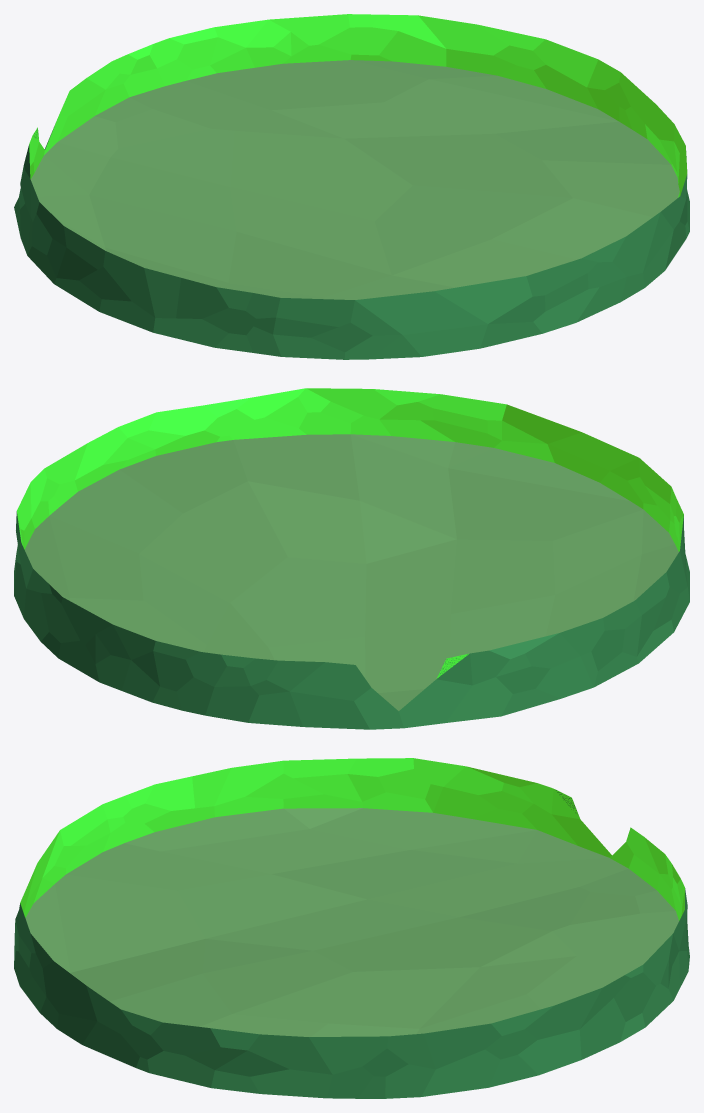
The model's file is plant_lily_pad_medium_C.fbx.
3 views of the same model, one above another, from view 1: azimuth 30°, elevation 25°; view 2: azimuth 150°, elevation 25°; view 3: azimuth 270°, elevation 25° (orthographic).
Visible parts, largest first — view 1: plant_lily_pad_medium_C; view 2: plant_lily_pad_medium_C; view 3: plant_lily_pad_medium_C.
Boxes of the visible parts, left/top/right/bottom form: plant_lily_pad_medium_C: left=14, top=14, right=689, bottom=359; plant_lily_pad_medium_C: left=14, top=388, right=689, bottom=729; plant_lily_pad_medium_C: left=14, top=758, right=689, bottom=1098.
Size of the model in its own units: 142 by 14.81 by 142.
